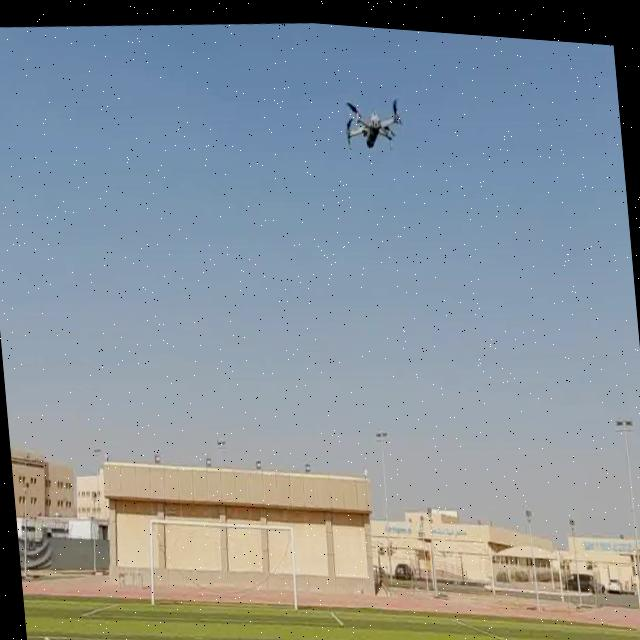drone: (336, 81, 409, 154)
